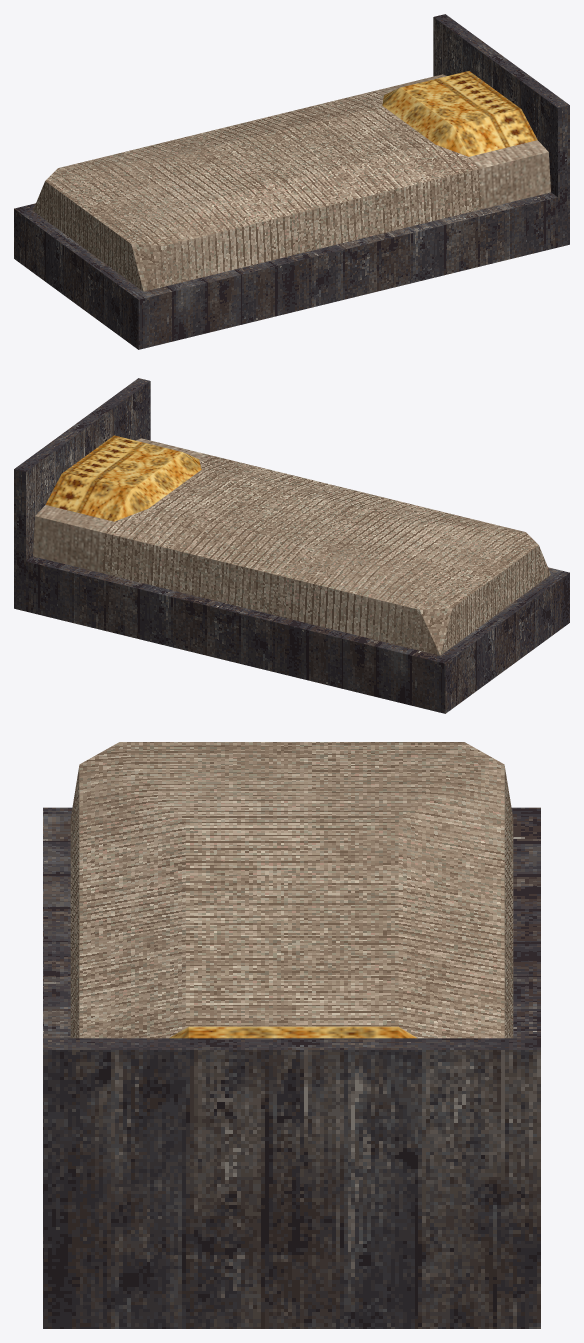
File: bed_single.glb
3 views of the same model, one above another, from view 1: azimuth 30°, elevation 25°; view 2: azimuth 150°, elevation 25°; view 3: azimuth 270°, elevation 25° (orthographic). The views are drawn at different scales.
Parts seen in each view (by area): view 1: Bed Single; view 2: Bed Single; view 3: Bed Single.
Boxes of the visible parts, left/top/right/bottom form: Bed Single: left=14, top=14, right=569, bottom=349; Bed Single: left=14, top=378, right=569, bottom=713; Bed Single: left=43, top=742, right=540, bottom=1328.
Size of the model in its own units: 1.8 by 0.556 by 0.9.
4 materials, 4 textured.
